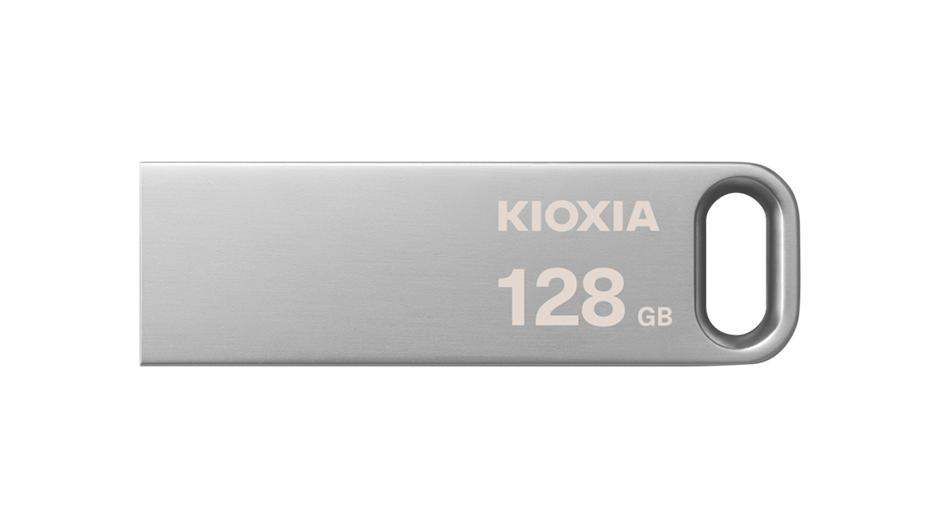USB Flash Drive: (134, 155, 806, 370)
